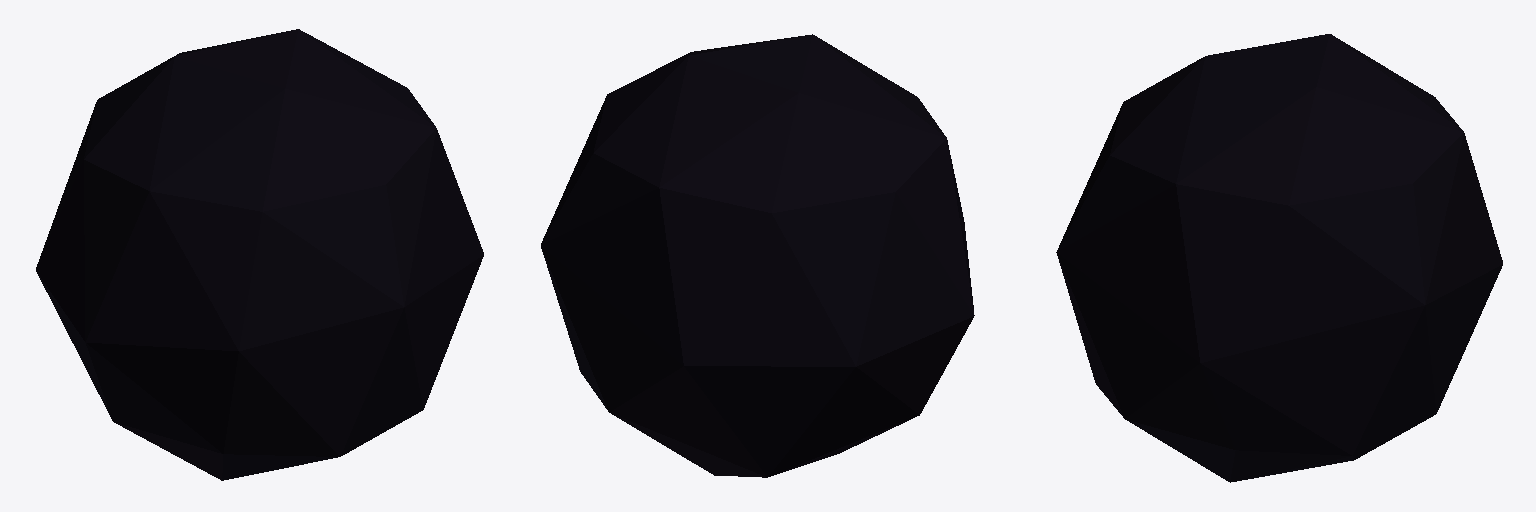
File: rock.obj
3 views of the same model, side by side, from view 1: azimuth 30°, elevation 25°; view 2: azimuth 150°, elevation 25°; view 3: azimuth 270°, elevation 25° (orthographic).
Visible parts, largest first — view 1: Rocher_Icosphere.001; view 2: Rocher_Icosphere.001; view 3: Rocher_Icosphere.001.
Boxes of the visible parts, <box> form: Rocher_Icosphere.001: <box>36,29,483,480</box>; Rocher_Icosphere.001: <box>541,34,974,477</box>; Rocher_Icosphere.001: <box>1056,34,1502,482</box>.
Bounding box in the file's own units: 1.89 × 1.9 × 1.94.